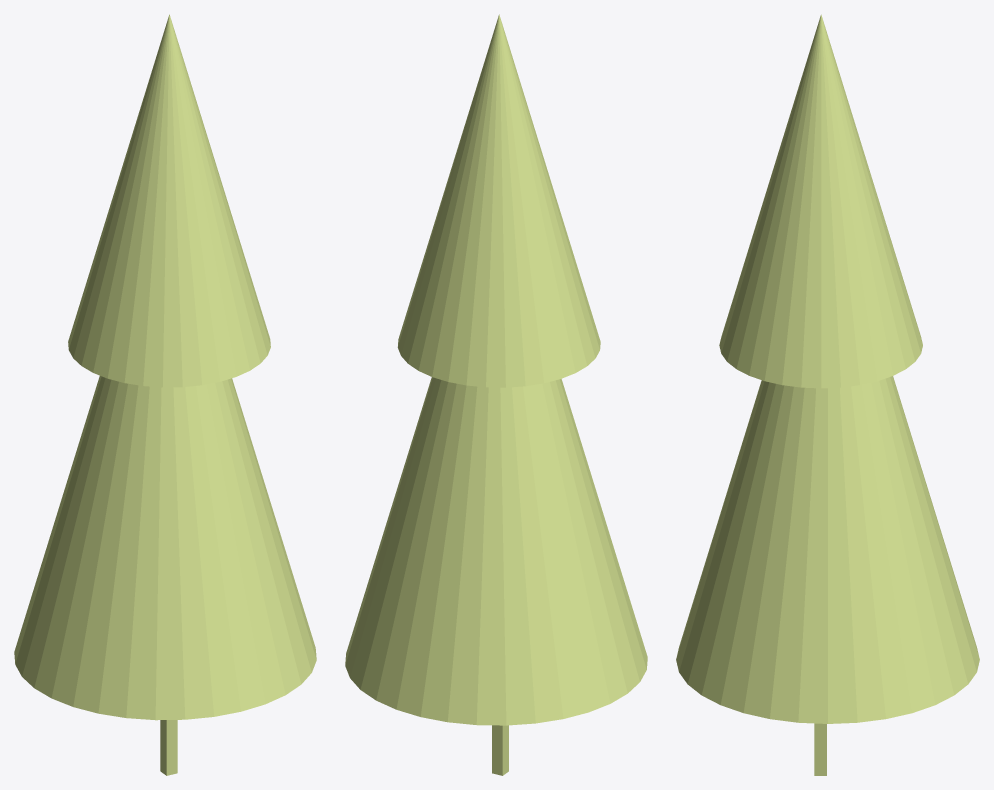
Rendered from tree.gltf.
The picture shows the model from 3 angles, left to right: view 1: azimuth 30°, elevation 25°; view 2: azimuth 150°, elevation 25°; view 3: azimuth 270°, elevation 25°; orthographic projection.
Visible parts, largest first — view 1: Cube; view 2: Cube; view 3: Cube.
Boxes of the visible parts, x1,y1,x2,y2 form: Cube: [14, 14, 316, 775]; Cube: [345, 14, 647, 775]; Cube: [676, 14, 979, 775].
Size of the model in its own units: 0.2286 by 0.6307 by 0.2286.
